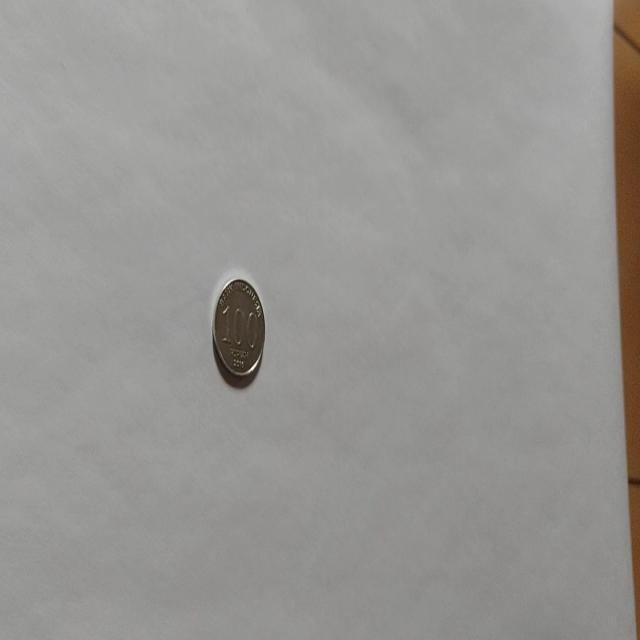seratus rupiah: (212, 276, 266, 379)
